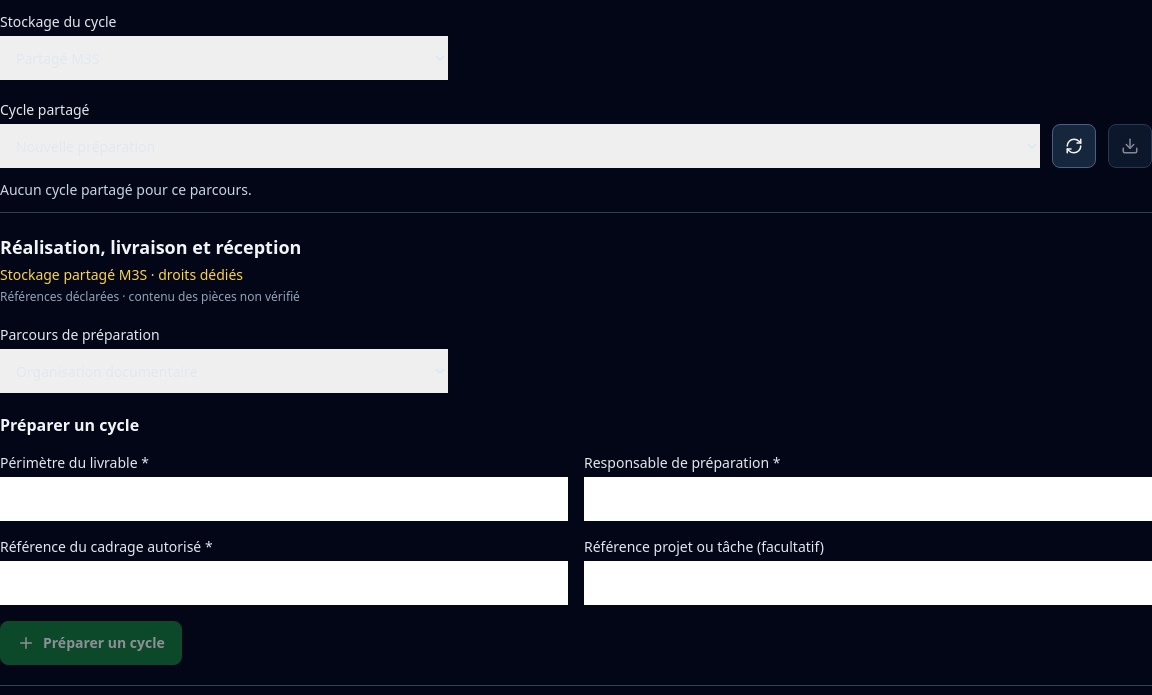
Test: missing secure randomness refuses creation without throwing or posting
The width and height of the screenshot is (1152, 695).
Expected: the text "Aucun cycle partagé pour ce parcours." is shown, [0,180,252,199]
Type "Préparation fictive" into the field labelled "Périmètre du livrable *" at (284, 499), box [0,477,568,521]
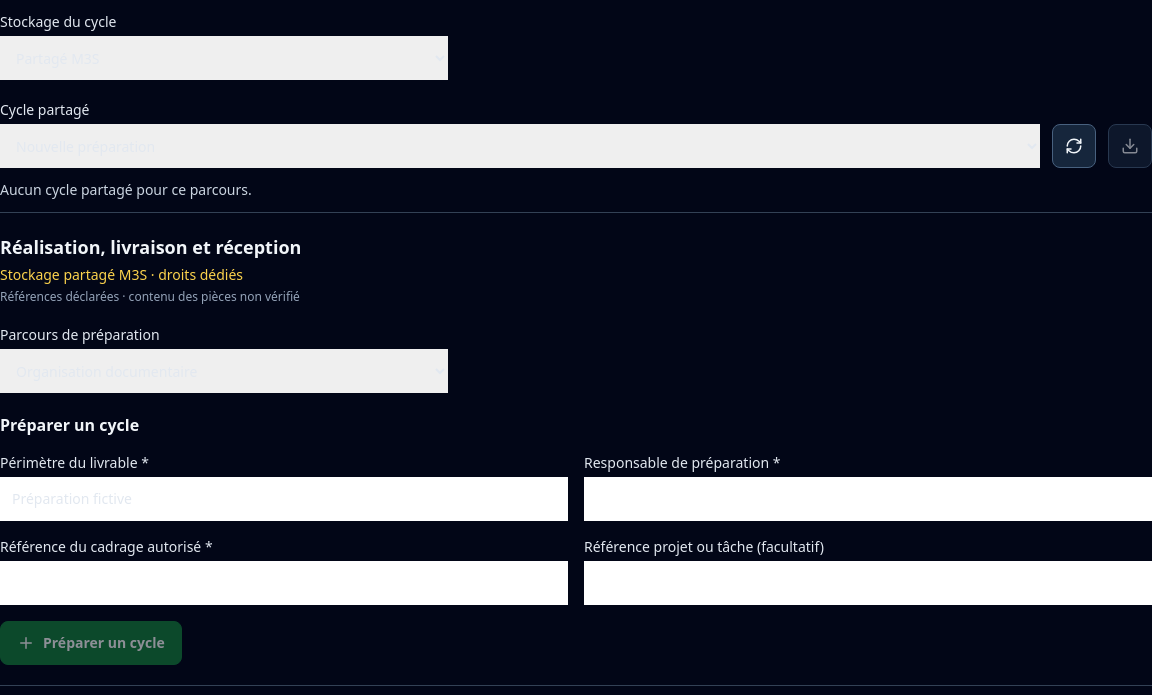
Type "Fonction fictive" into the field labelled "Responsable de préparation *" at (868, 499), box [584,477,1151,521]
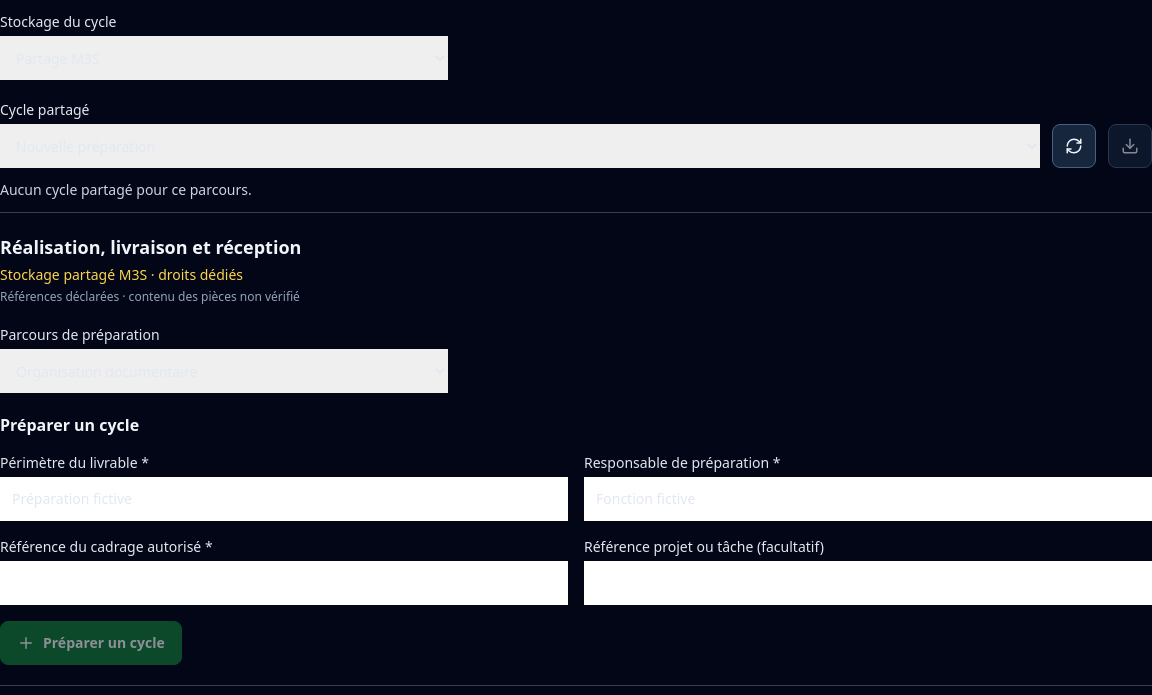
Type "TEST-SCOPE" into the field labelled "Référence du cadrage autorisé *" at (284, 583), box [0,561,568,605]
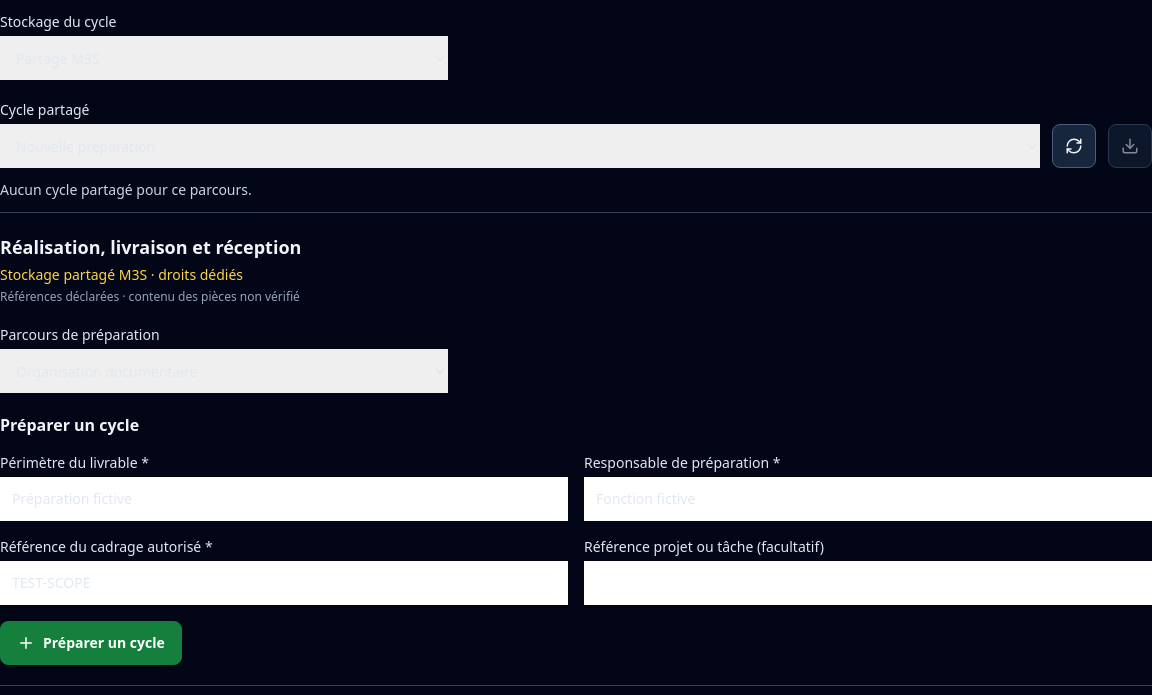
Click the button "Préparer un cycle" at (91, 643), box [0,621,182,665]
(page scrolled)
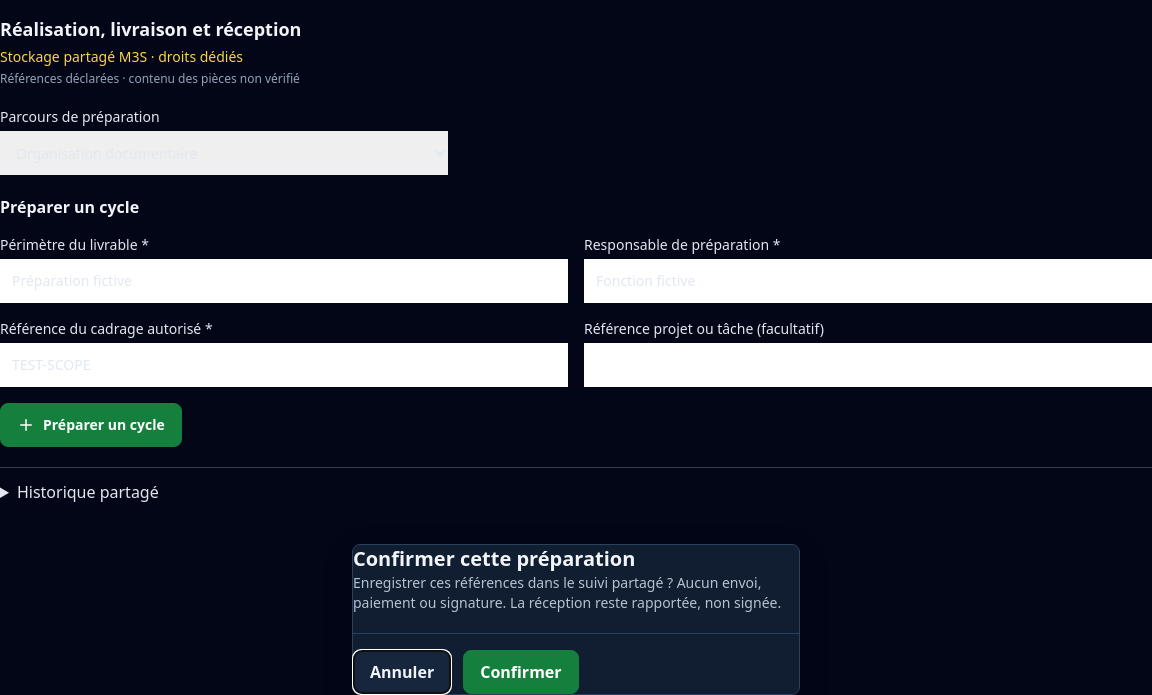
Click the button "Confirmer" at (521, 672), box [463,650,579,694]
(page scrolled)
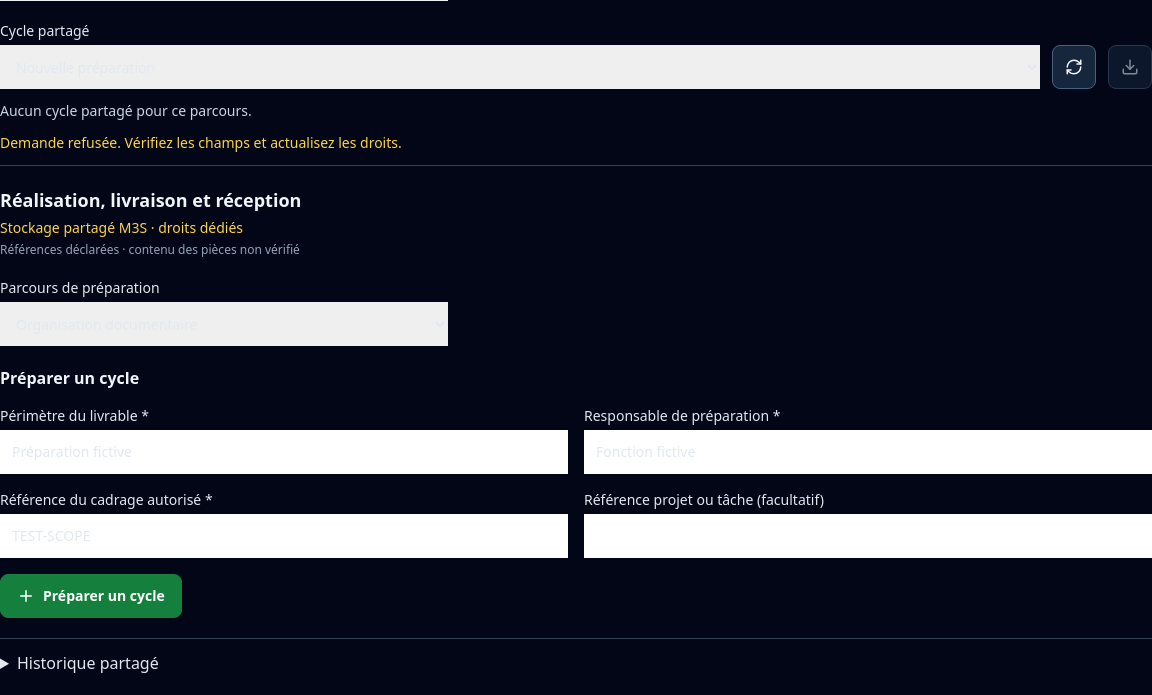
Expected: the message shows "Demande refusée", [0,133,402,152]
